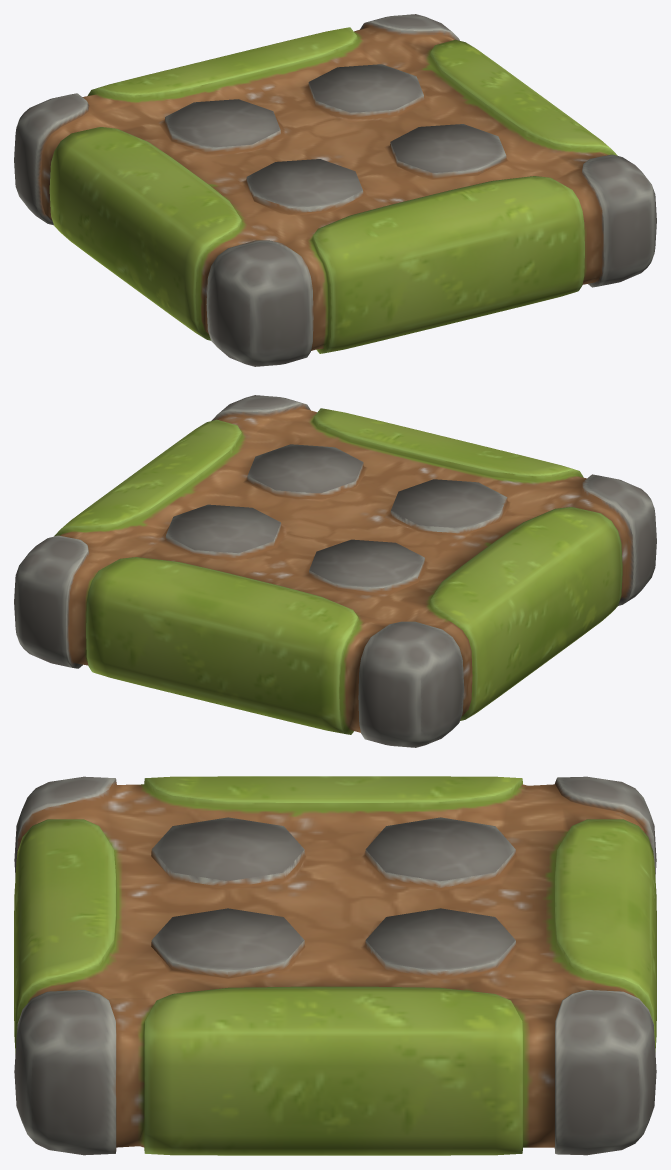
File: arena block 2.fbx
3 renders of one model, top to bottom at view 1: azimuth 30°, elevation 25°; view 2: azimuth 150°, elevation 25°; view 3: azimuth 270°, elevation 25°, orthographic. The views are drawn at different scales.
Parts seen in each view (by area): view 1: arena block 2 lp.002; view 2: arena block 2 lp.002; view 3: arena block 2 lp.002.
Boxes of the visible parts, bbox=[...] form: arena block 2 lp.002: bbox=[14, 14, 656, 366]; arena block 2 lp.002: bbox=[14, 395, 656, 747]; arena block 2 lp.002: bbox=[14, 776, 656, 1155].
Size of the model in its own units: 200 by 49.89 by 200.
